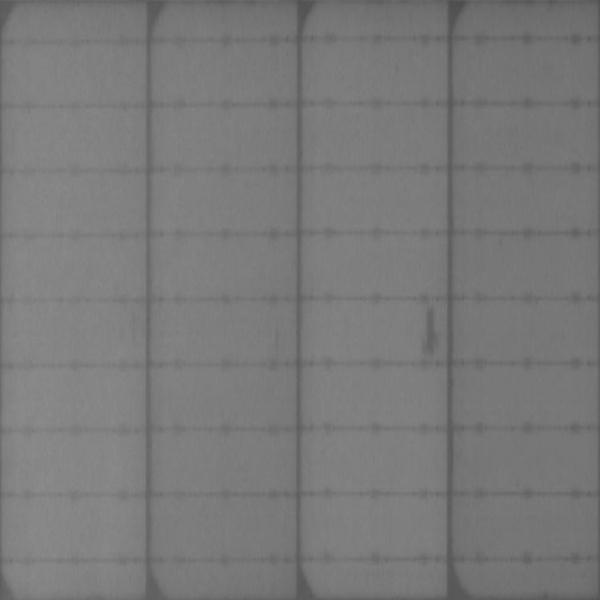broken: (414, 300, 444, 361)
